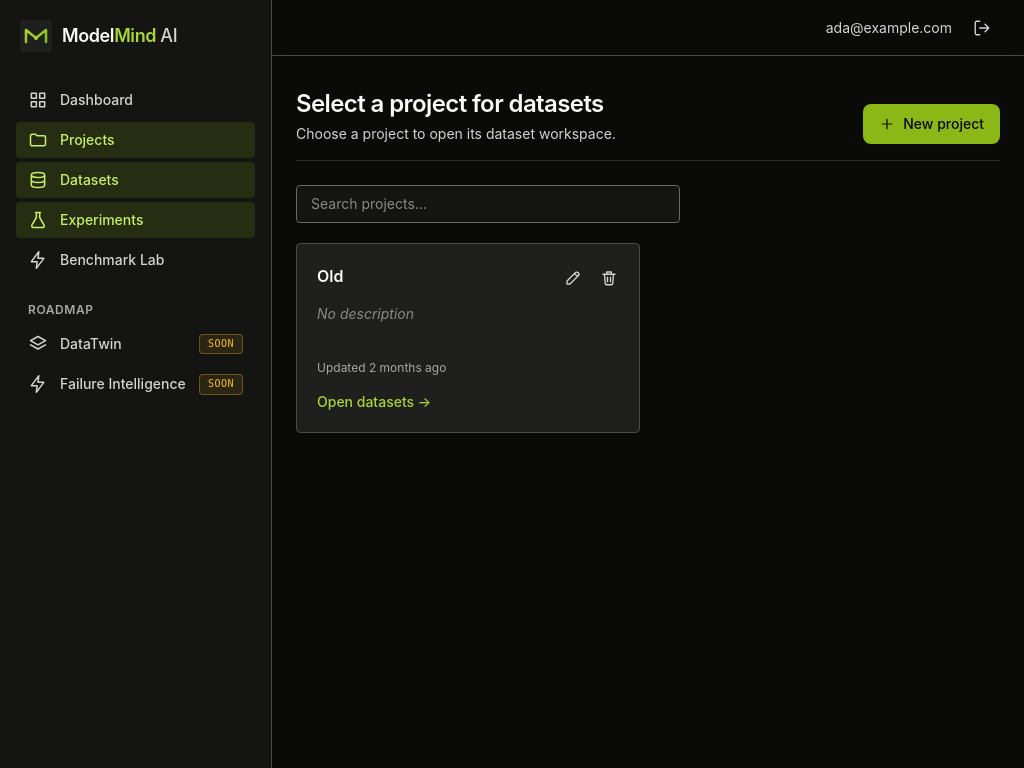
Test: Projects page › edits a project with PATCH
The width and height of the screenshot is (1024, 768).
Click the button named "Edit Old": (573, 278) [555,260,591,296]
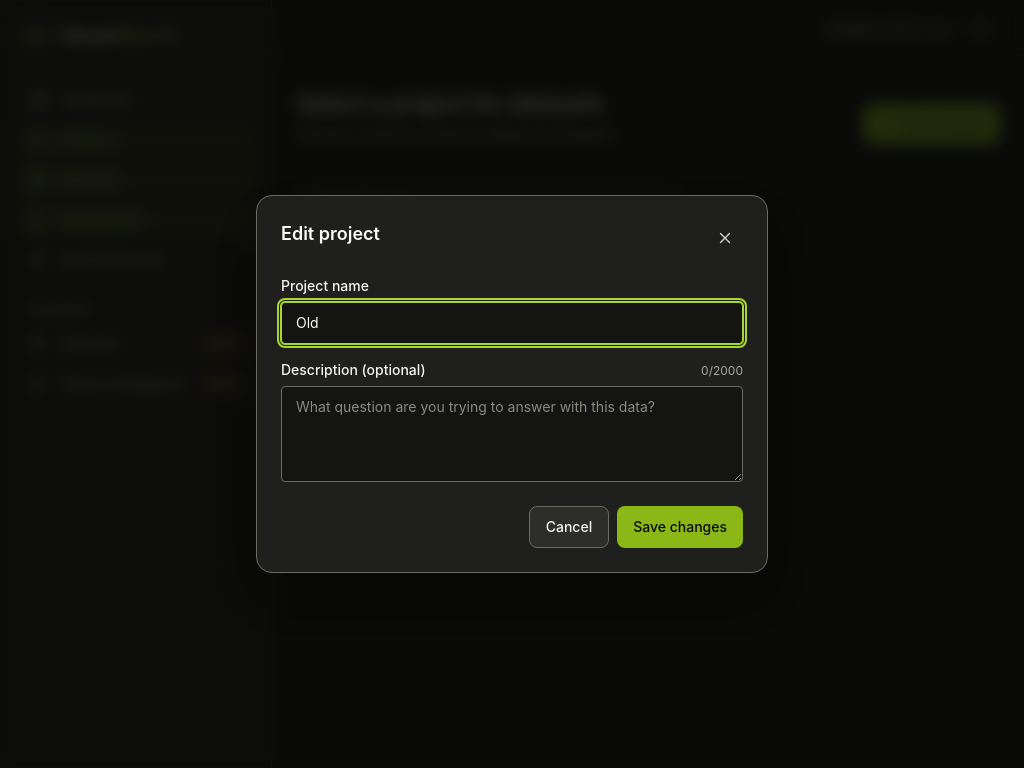
Replace the text in the field labelled "Project name" with "New name": (512, 323) [281,302,743,344]
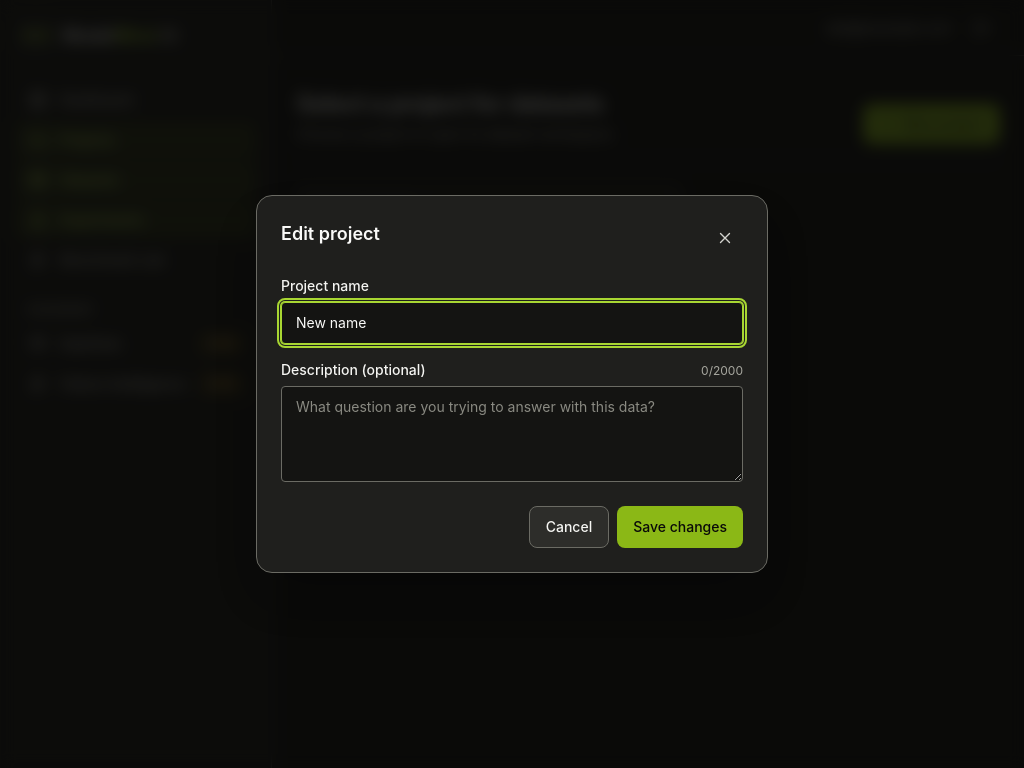
Click the button "Save changes": (680, 527) [617,506,743,548]
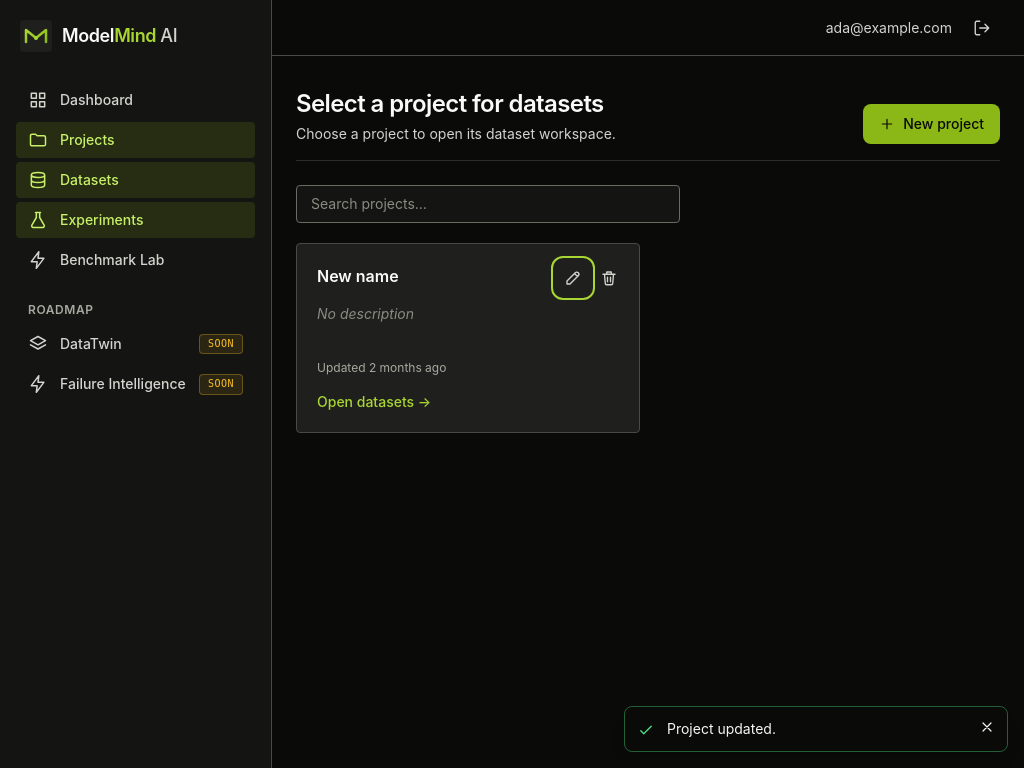
Result: the link "New name" is shown at [317,264,399,288]
